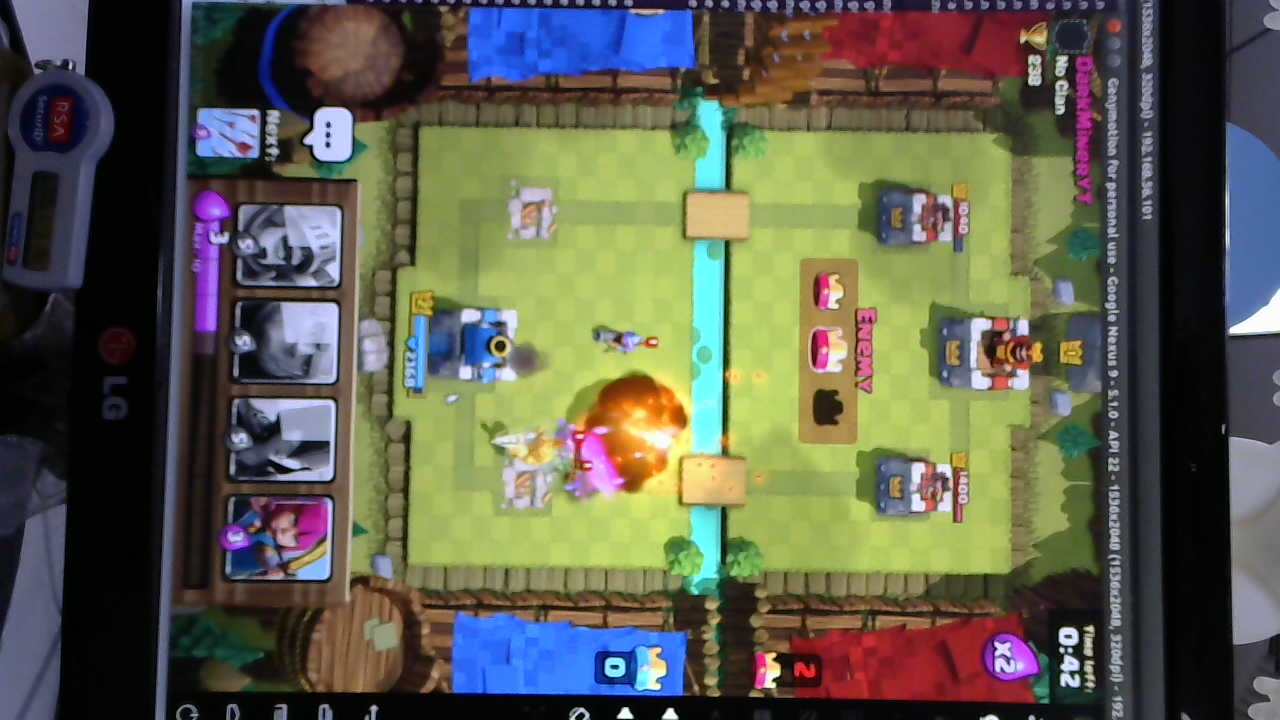darena: (502, 179, 559, 248), (497, 452, 546, 513)
earena: (874, 453, 954, 523), (878, 185, 957, 248)
eking: (939, 312, 1036, 395)
king: (428, 307, 519, 383)
musketeer: (591, 324, 649, 357)
prince: (493, 425, 564, 469)
